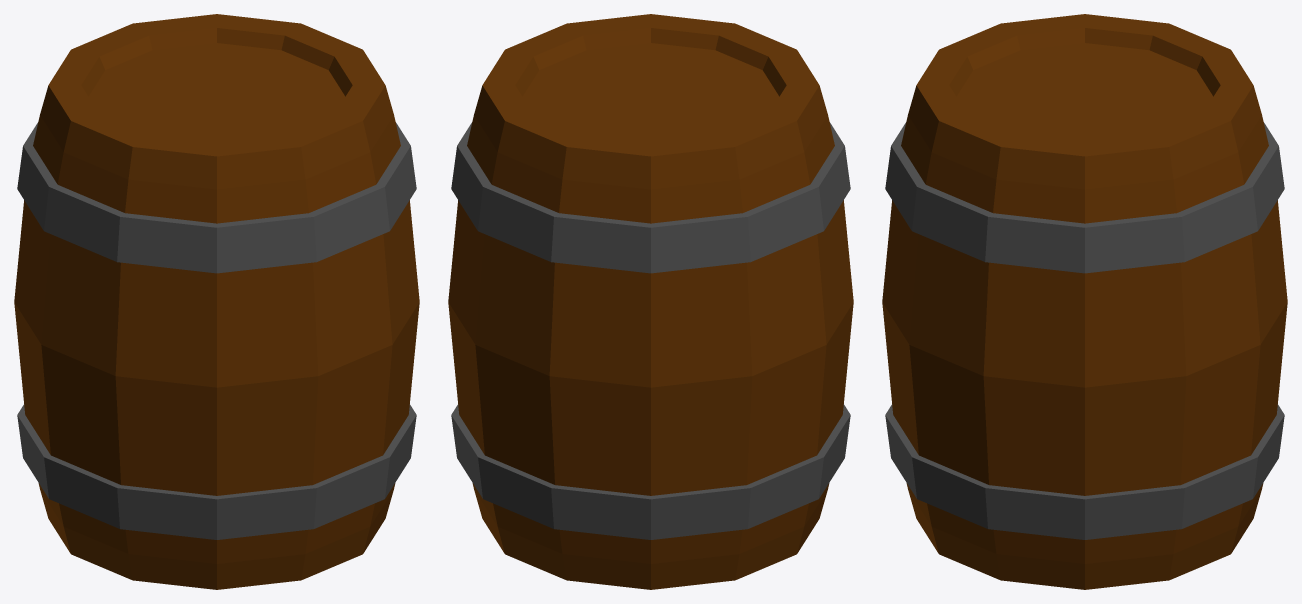
Rendered from Proto_Wooden_Barrel_01.fbx.
3 renders of one model, left to right at view 1: azimuth 30°, elevation 25°; view 2: azimuth 150°, elevation 25°; view 3: azimuth 270°, elevation 25°, orthographic.
Parts seen in each view (by area): view 1: Proto_Wooden_Barrel_01; view 2: Proto_Wooden_Barrel_01; view 3: Proto_Wooden_Barrel_01.
Boxes of the visible parts, box(x1,y1,x2,y2) form: Proto_Wooden_Barrel_01: box(14, 14, 419, 589); Proto_Wooden_Barrel_01: box(448, 14, 853, 589); Proto_Wooden_Barrel_01: box(882, 14, 1287, 589).
Bounding box in the file's own units: 0.9072 × 1.07 × 0.9072.
